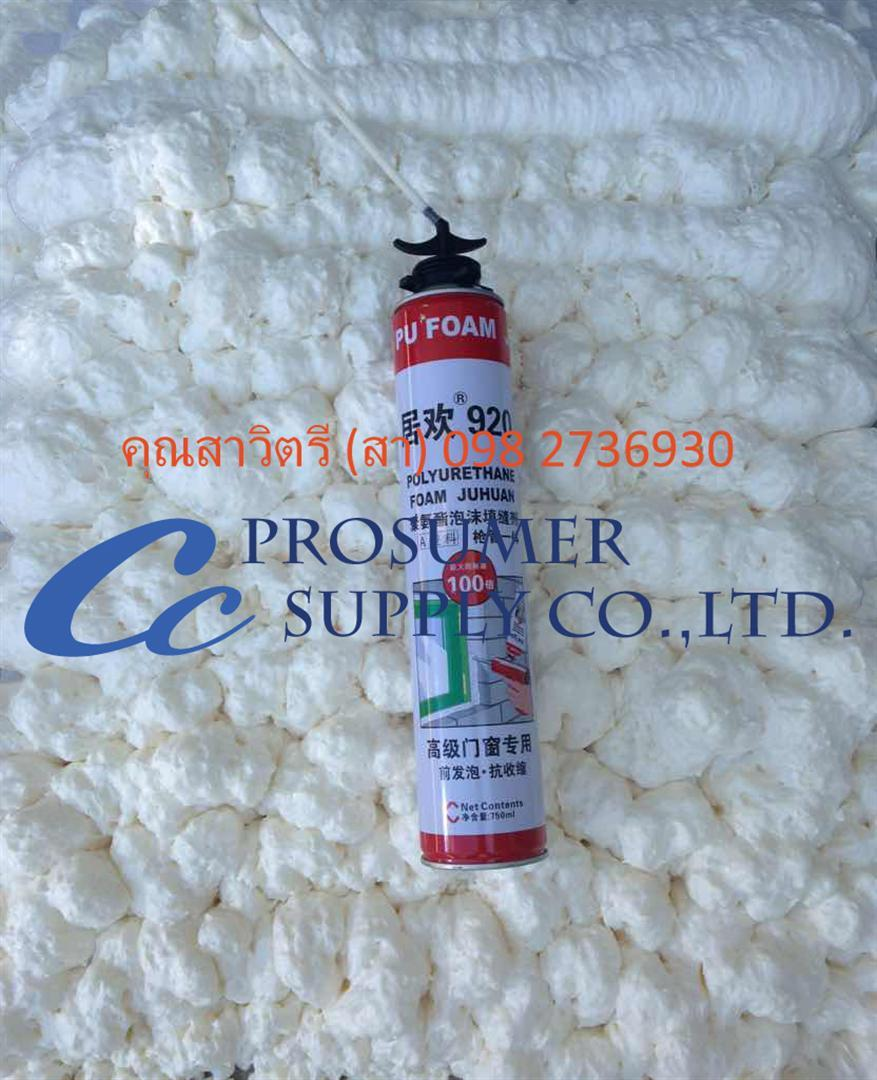Aerosol_cans: (385, 206, 555, 875)
